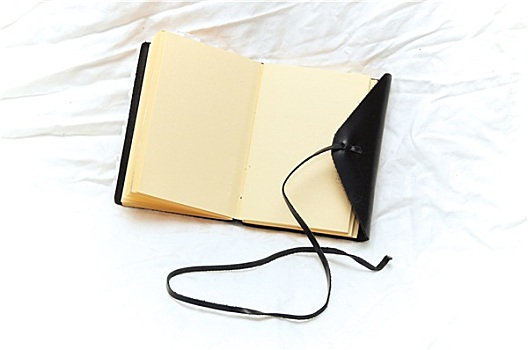book: (114, 30, 396, 246)
